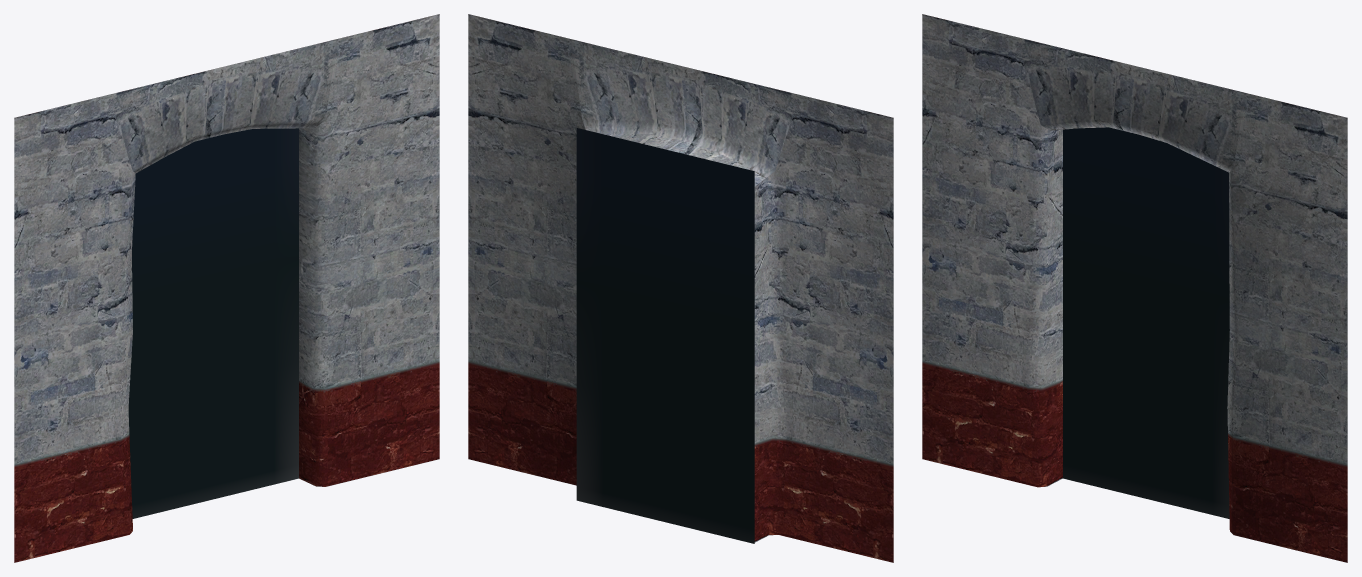
Rendered from factory_corridor_01_doorsealed.DAE.
3 views of the same model, side by side, from view 1: azimuth 30°, elevation 25°; view 2: azimuth 150°, elevation 25°; view 3: azimuth 330°, elevation 25° (orthographic).
Parts seen in each view (by area): view 1: Object087, Object088; view 2: Object087, Object088; view 3: Object087, Object088.
Part boxes in pixels (x1=…): Object087: x1=14, y1=14, x2=439, y2=562; Object088: x1=108, y1=39, x2=336, y2=173; Object087: x1=468, y1=14, x2=893, y2=562; Object088: x1=571, y1=39, x2=799, y2=186; Object087: x1=922, y1=14, x2=1347, y2=562; Object088: x1=1016, y1=37, x2=1244, y2=172.
Size of the model in its own units: 4 by 4 by 0.25.
